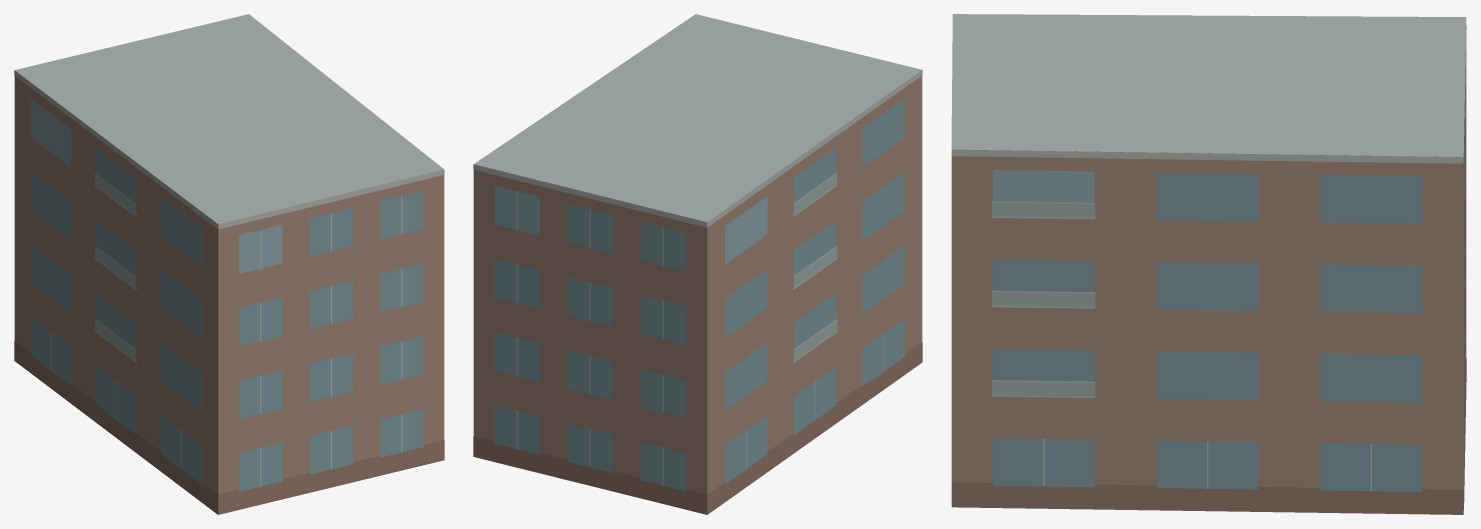
File: survey-upis-32996584.glb
The picture shows the model from 3 angles, left to right: view 1: azimuth 30°, elevation 25°; view 2: azimuth 150°, elevation 25°; view 3: azimuth 270°, elevation 25°; orthographic projection. The views are drawn at different scales.
Parts seen in each view (by area): view 1: survey-upis-32996584.tmp; view 2: survey-upis-32996584.tmp; view 3: survey-upis-32996584.tmp.
Boxes of the visible parts, <box> form: survey-upis-32996584.tmp: <box>14,14,444,514</box>; survey-upis-32996584.tmp: <box>473,14,922,514</box>; survey-upis-32996584.tmp: <box>951,14,1466,514</box>.
Bounding box in the file's own units: 11.34 × 13.2 × 17.23.
